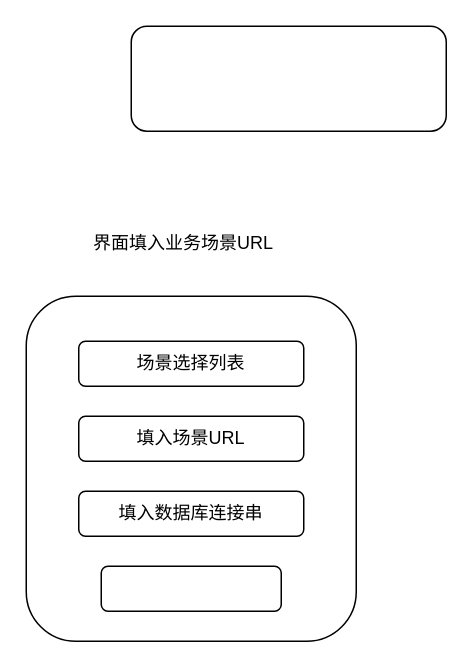
This 473x668 diagram has some shape labels left out. Each missing label, with the centre of its shape:
执行按钮: the point at 190,588
目标建立业务场景与数据的关联关系：: the point at 288,78
